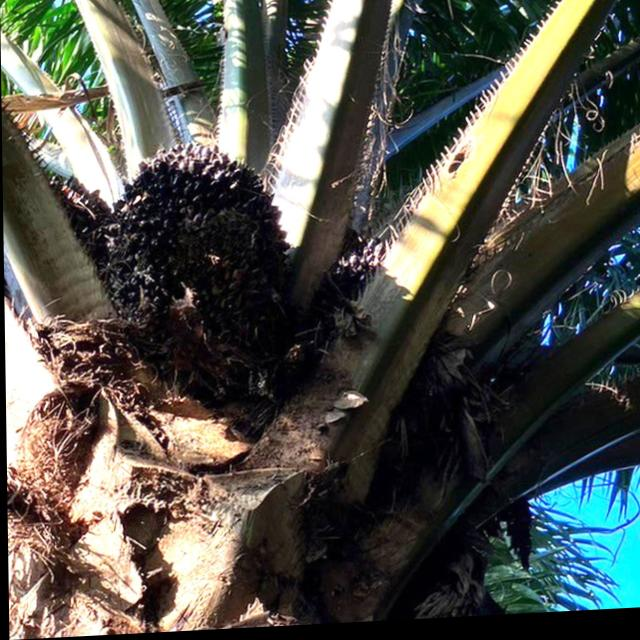almost: (97, 135, 294, 409)
